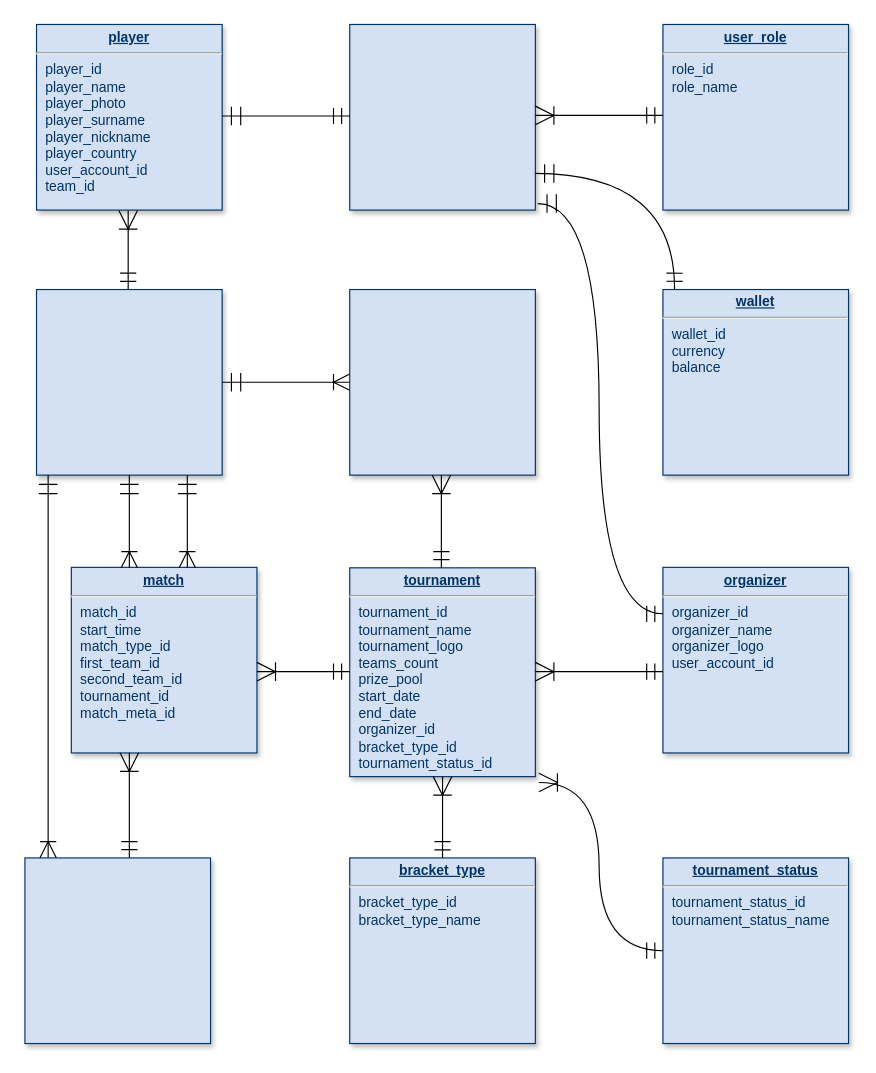
Image size: 876x1073. Some labels were removed from this diagram. The centre of each missing label's shape, as x and y in pixels:
match_meta match_meta_id match_type_name winner_team_id: point 118,952
team team_id team_logo team_name total_points t_p_id: point 130,383
tournament_participants t_p_id team_id tournament_id: point 443,383
user_account user_id account_avatar login password email role_id wallet_id: point 443,118
